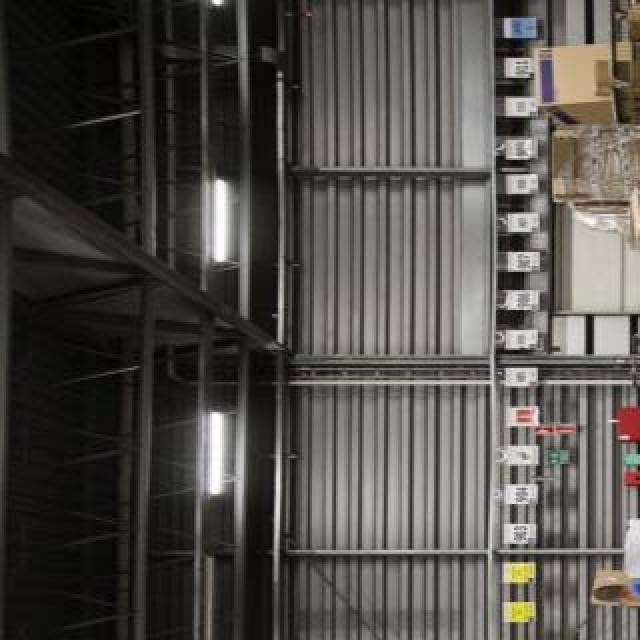fluorescent tube: (205, 169, 240, 271), (206, 398, 229, 507)
